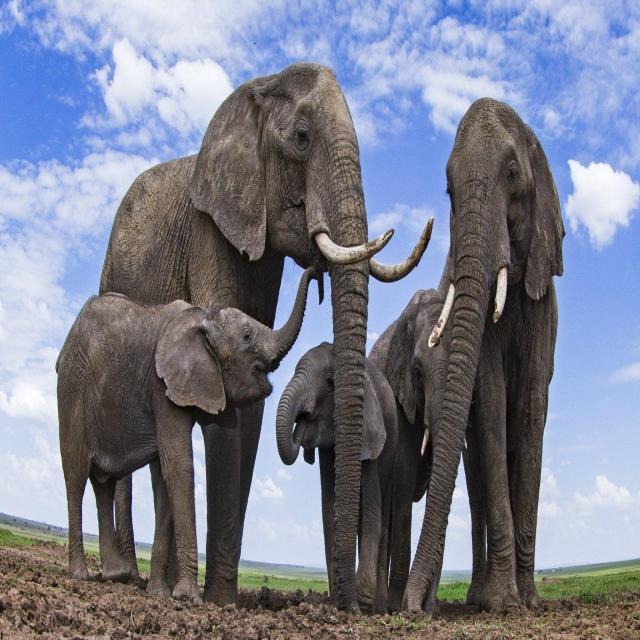Elephant: (100, 25, 376, 608), (422, 54, 578, 640), (43, 261, 281, 614)
